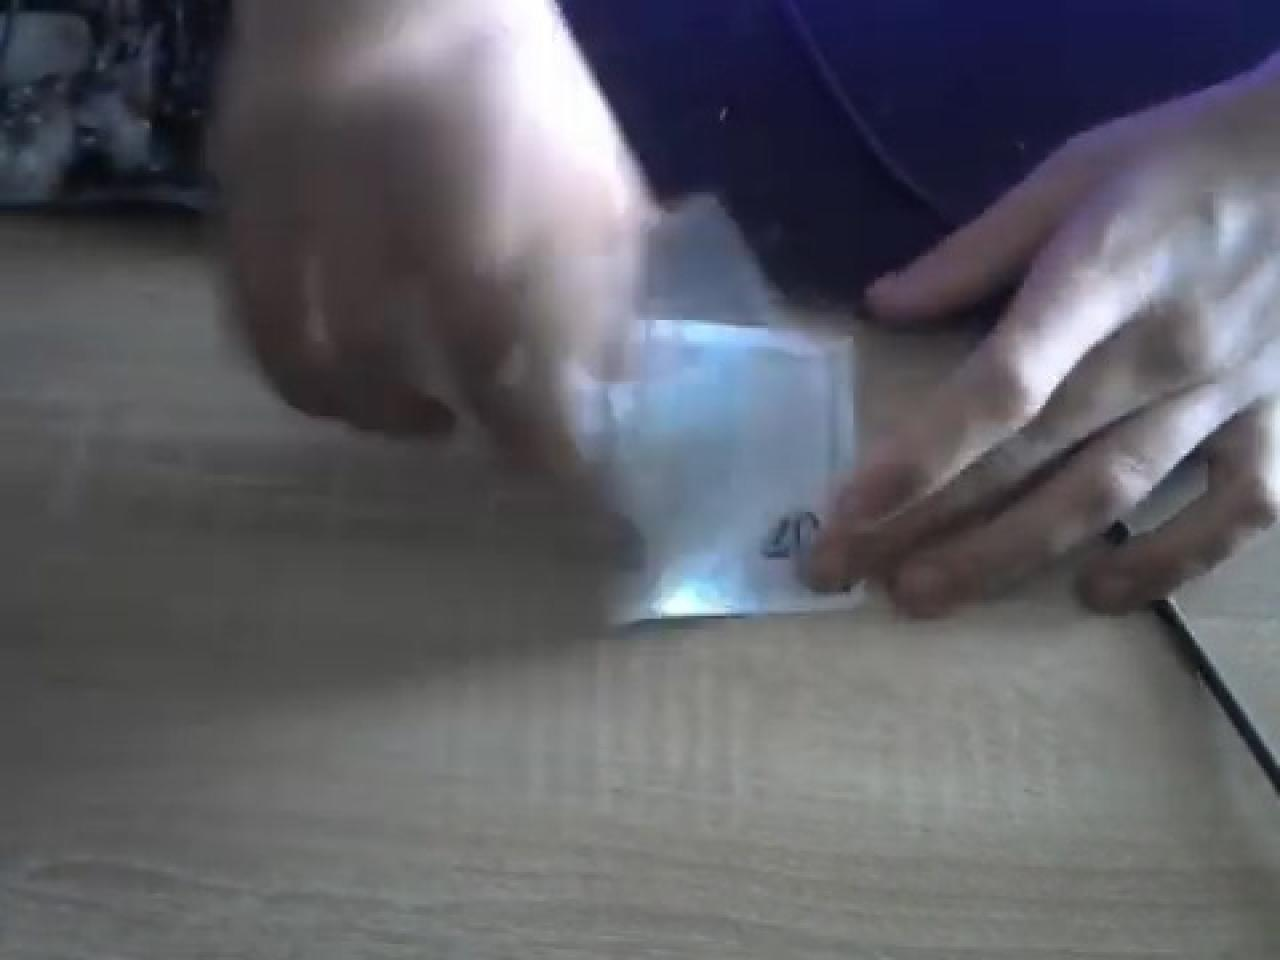20leva: (603, 317, 861, 627)
